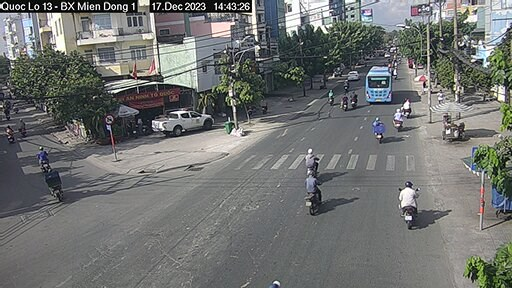bus: (364, 64, 401, 109)
car: (155, 110, 214, 133)
motorbike: (301, 173, 324, 218), (393, 185, 422, 220), (301, 146, 320, 179), (402, 100, 420, 121), (370, 120, 387, 136), (393, 109, 408, 127), (324, 87, 336, 102)
